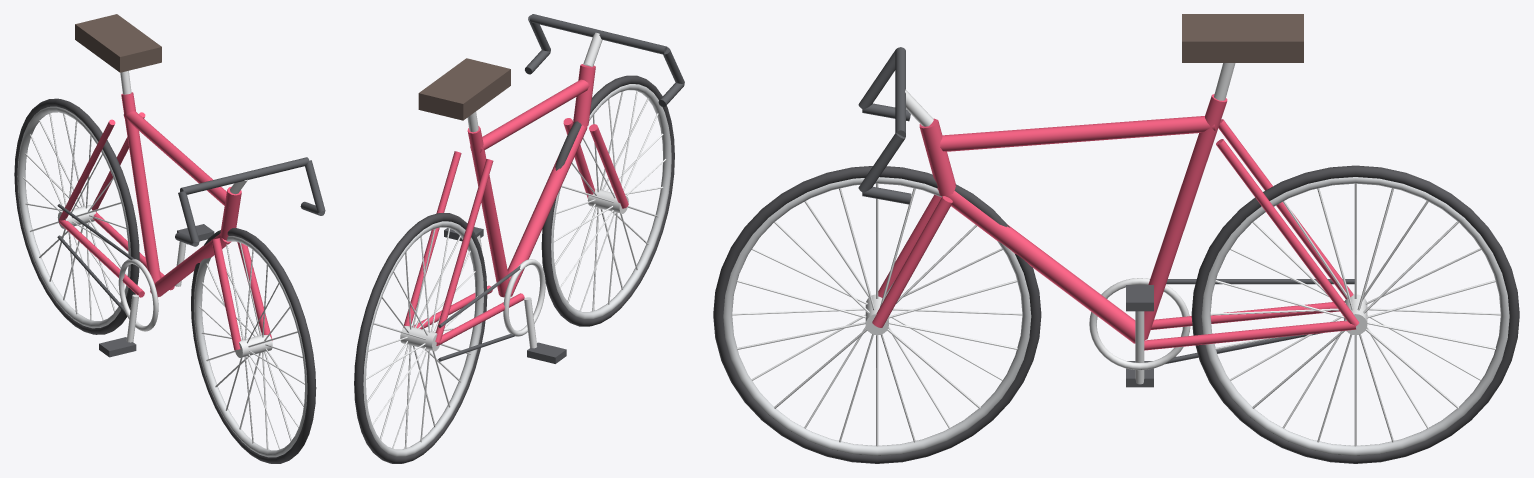
File: bike-road.glb
3 renders of one model, left to right at view 1: azimuth 30°, elevation 25°; view 2: azimuth 150°, elevation 25°; view 3: azimuth 270°, elevation 25°, orthographic. The views are drawn at different scales.
Visible parts, largest first — view 1: bike-road; view 2: bike-road; view 3: bike-road.
Part boxes in pixels (x1,y1,x2,y2): bike-road: [14, 14, 325, 463]; bike-road: [354, 14, 684, 463]; bike-road: [713, 14, 1519, 463].
Size of the model in its own units: 0.444 by 1.02 by 1.72.
